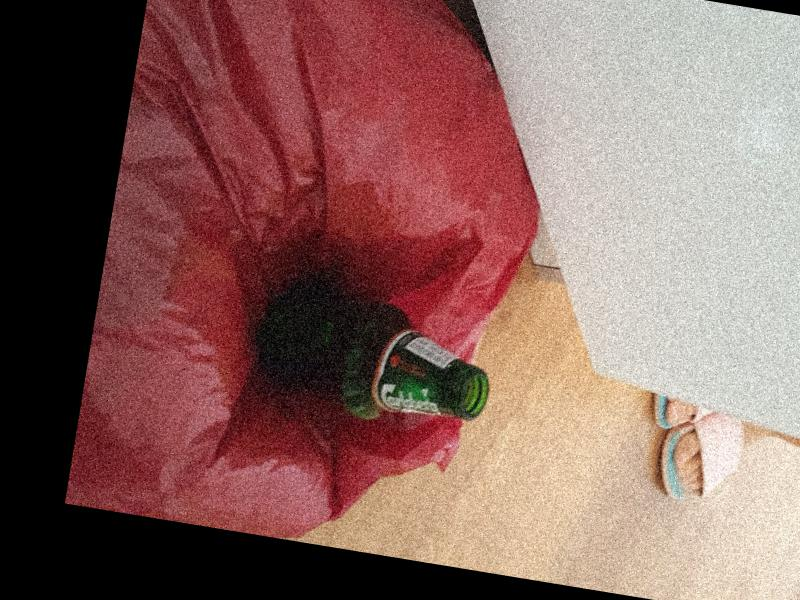Beer: (247, 274, 500, 437)
